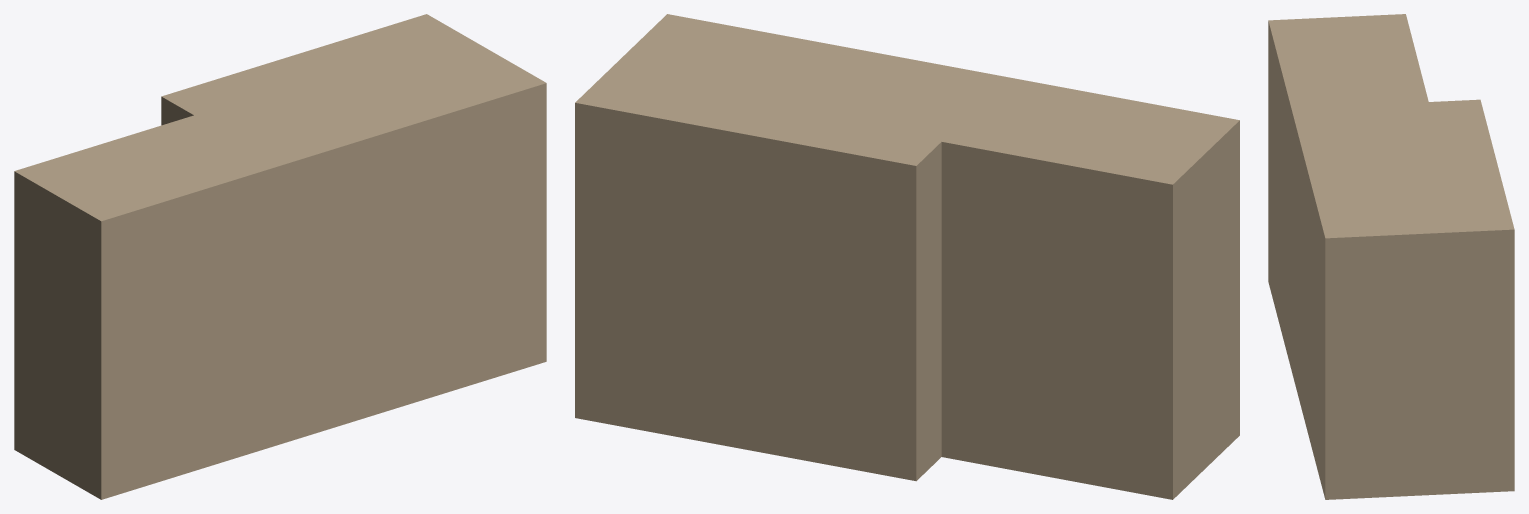
File: bld_101562485.dae
3 renders of one model, left to right at view 1: azimuth 30°, elevation 25°; view 2: azimuth 150°, elevation 25°; view 3: azimuth 270°, elevation 25°, orthographic. The views are drawn at different scales.
Parts seen in each view (by area): view 1: bld_101562485; view 2: bld_101562485; view 3: bld_101562485.
Boxes of the visible parts, bbox=[...] form: bld_101562485: bbox=[14, 14, 546, 499]; bld_101562485: bbox=[575, 14, 1239, 499]; bld_101562485: bbox=[1268, 14, 1514, 499].
Size of the model in its own units: 14.72 by 6.82 by 8.
